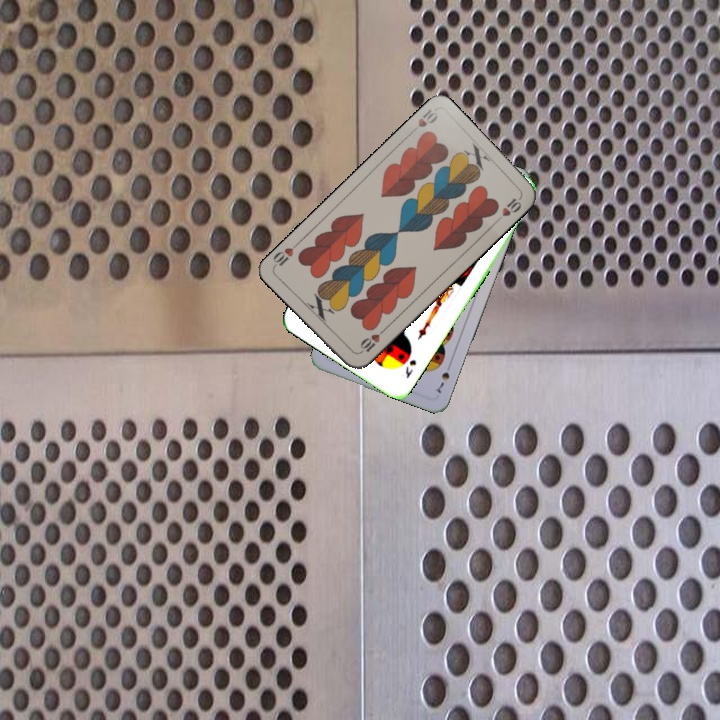H10: (405, 105, 441, 137), (355, 325, 388, 357)
S7: (433, 359, 454, 396)
SK: (401, 355, 419, 381)
